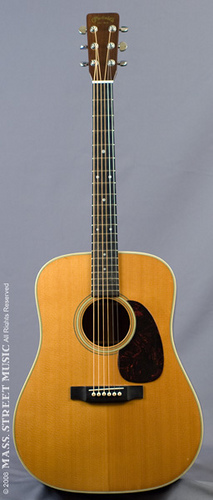guitar: (11, 9, 205, 497)
